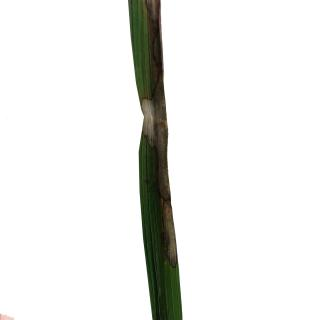Hawar-Daun: (149, 142, 174, 264), (142, 91, 168, 141)
